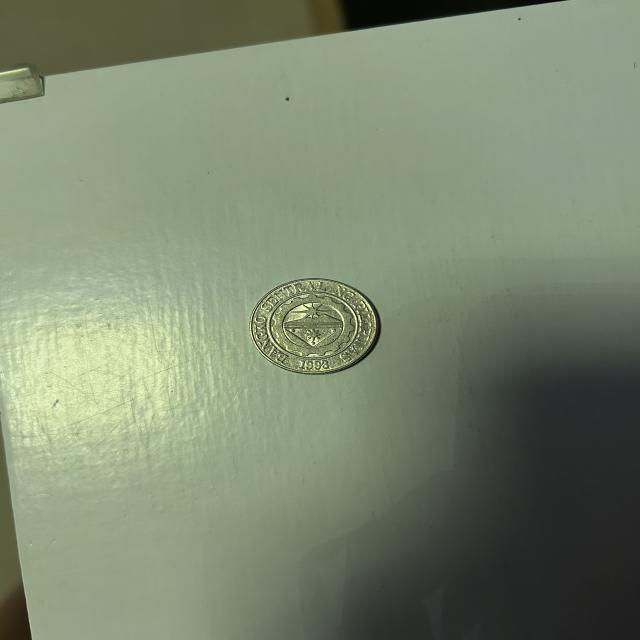1_Old_Back: (264, 289, 366, 363)
